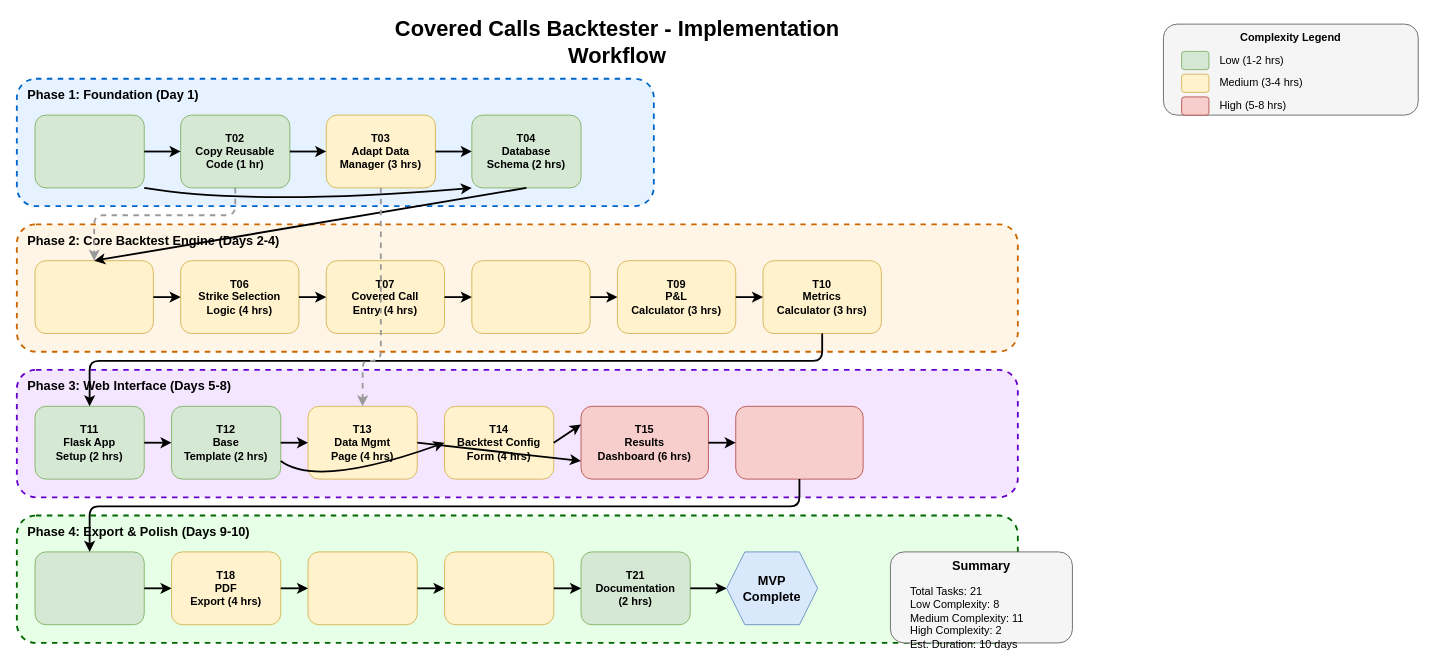
This 1434x666 diagram has some shape labels left out. Here are the shapes that lost their labels. From the top down, the centre of each, then its label:
At [89,151]: "T01 Project Setup (1 hr)".
At [93,297]: "T05 Option Premium Estimator (4 hrs)".
At [530,297]: "T08 Exit Rules Engine (4 hrs)".
At [799,442]: "T16 Chart.js Integration (8 hrs)".
At [89,588]: "T17 CSV Export (2 hrs)".
At [362,588]: "T19 Error Handling (3 hrs)".
At [499,588]: "T20 Unit Testing (4 hrs)".
